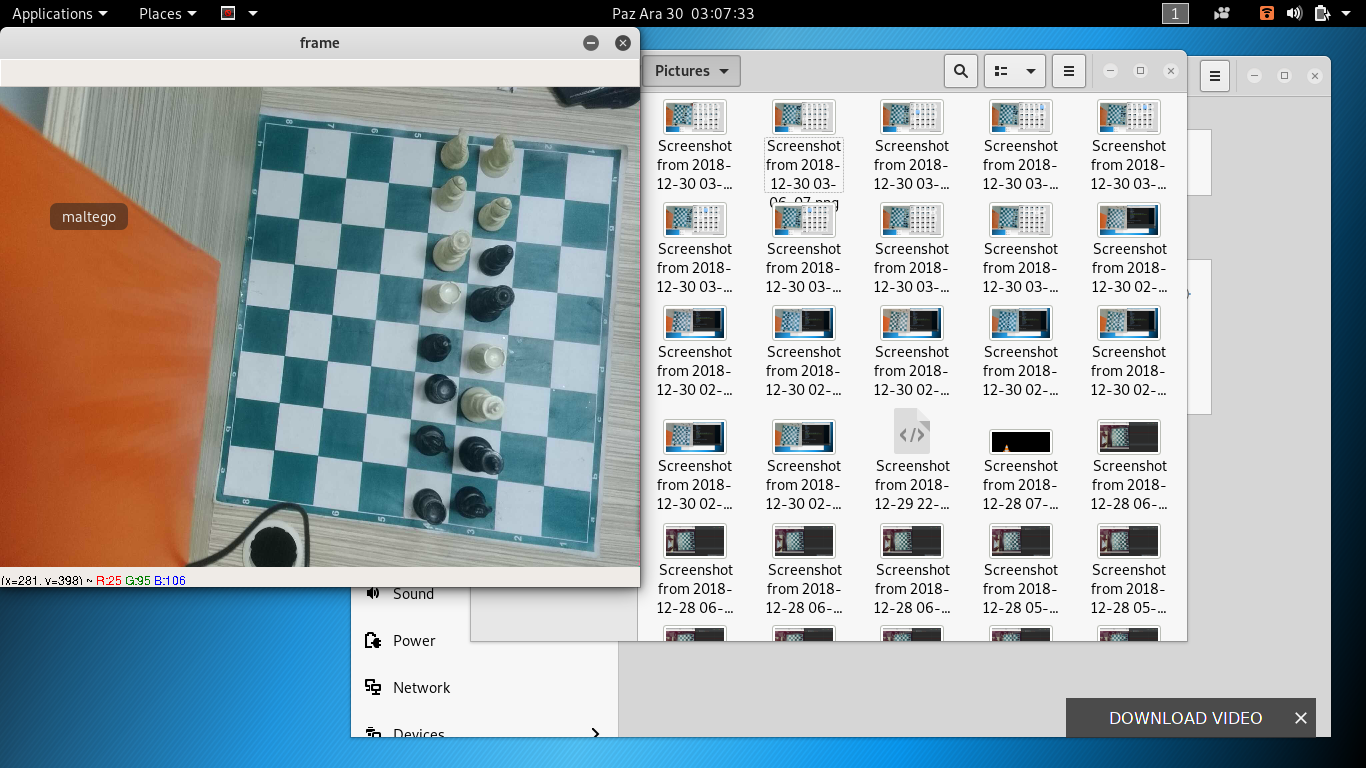BeyazAt: (481, 135, 514, 179), (439, 128, 471, 168)
BeyazFil: (476, 196, 511, 230), (436, 176, 465, 209)
BeyazKale: (425, 283, 464, 314), (471, 341, 506, 374)
BeyazSah: (461, 386, 504, 425)
BeyazVezir: (431, 231, 470, 270)
SiyahAt: (456, 484, 492, 519), (415, 425, 449, 459)
SiyahFil: (478, 244, 513, 276), (422, 331, 453, 363)
SiyahKale: (411, 487, 447, 524), (425, 373, 459, 403)
SiyahSah: (460, 436, 505, 476)
SiyahVezir: (469, 285, 514, 319)
